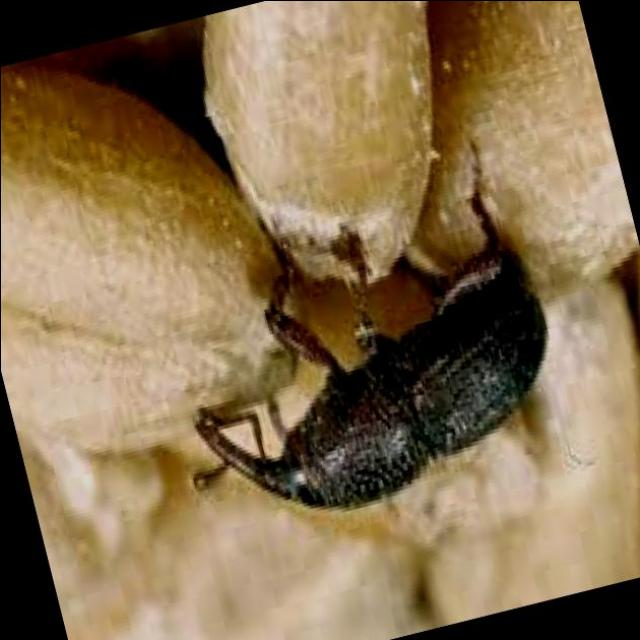ricebug: (194, 186, 547, 509)
